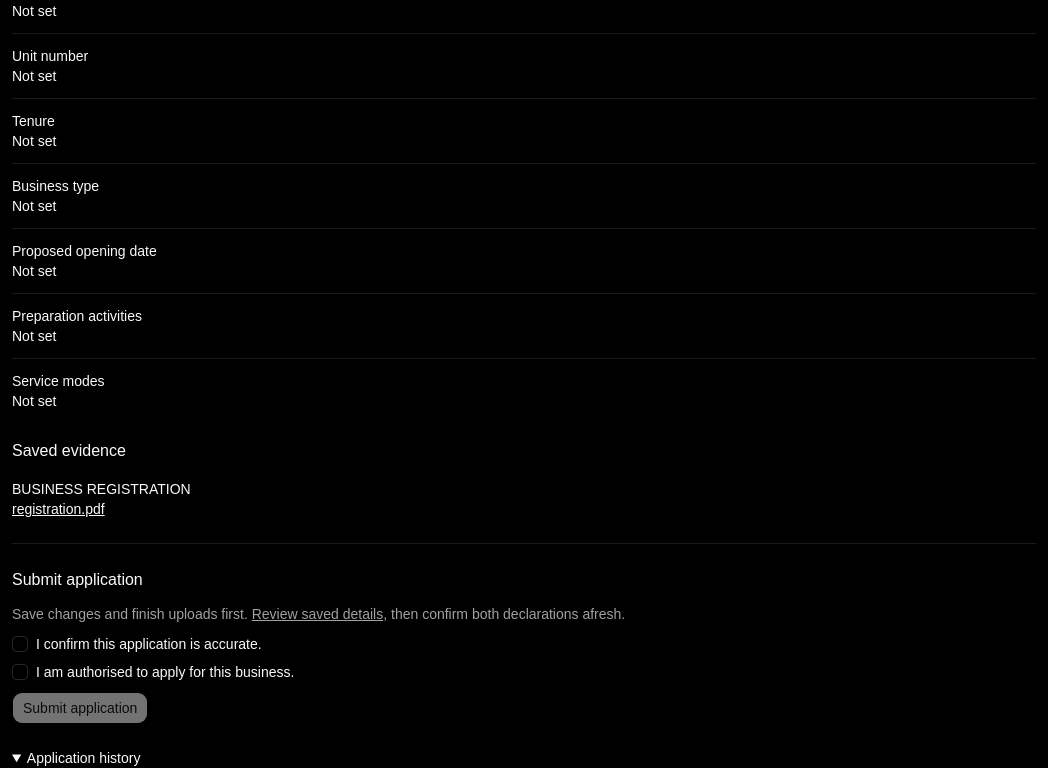
unsaved fields block submission without sending a command
The width and height of the screenshot is (1048, 768).
(page scrolled)
Check: the button "Submit application" is shown, box 12,692 -> 148,724
What coordinates should you click on to do the following:
click the checkbox named "I confirm this application is accurate." next to "I confirm this application is accurate."
I would click on:
 (20, 644)
Its box is 12,636 -> 28,652.
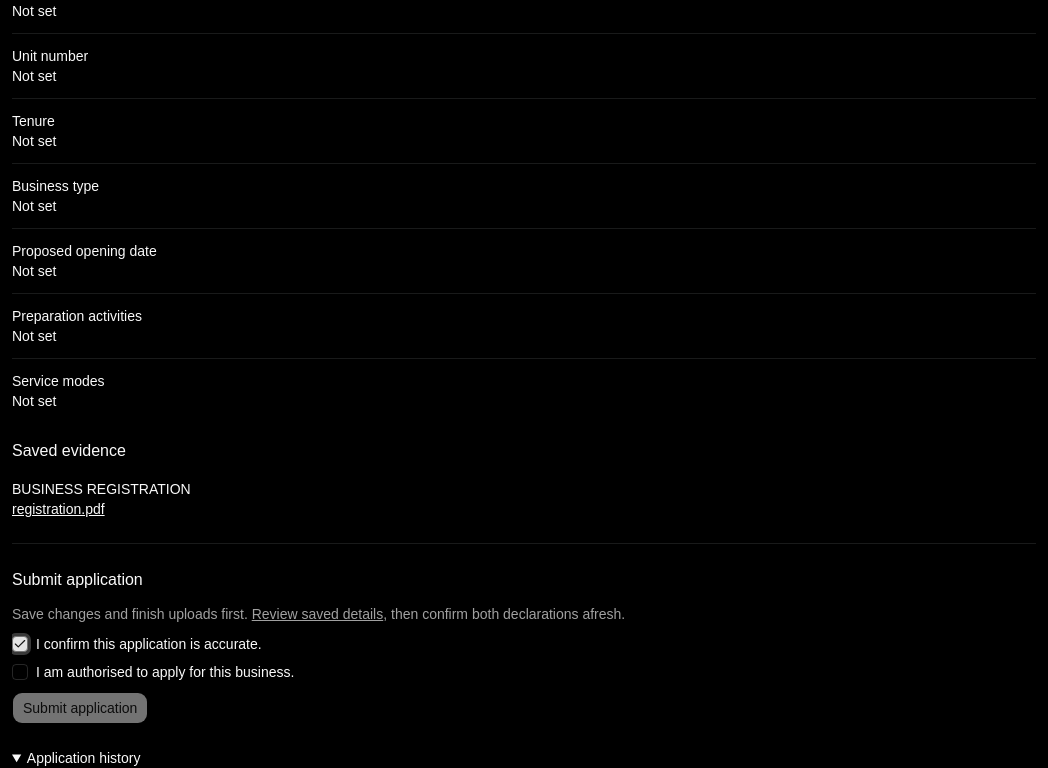
What coordinates should you click on to do the following:
click the 2nd checkbox named "I am authorised to apply for this business."
I would click on:
 (20, 672)
Its box is 12,664 -> 28,680.
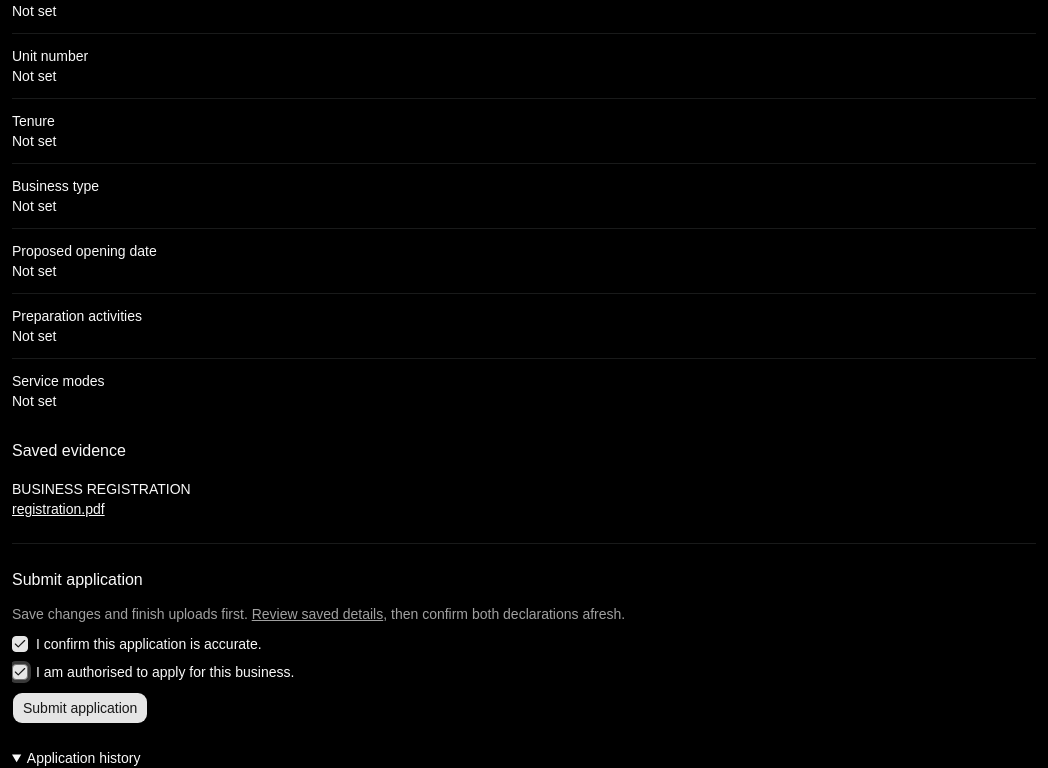
What coordinates should you click on to do the following:
click the button "Submit application"
I would click on:
 (80, 708)
Its box is 12,692 -> 148,724.
(page scrolled)
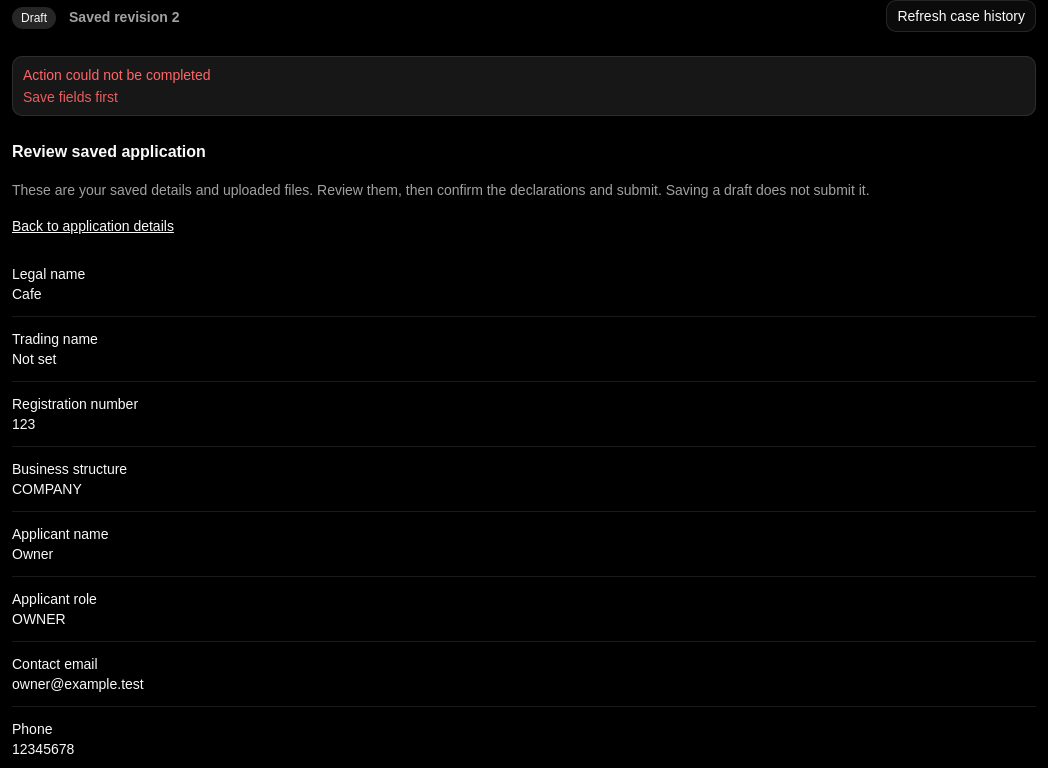
Check: the text "Save fields first" is shown, box 23,89 -> 118,105
